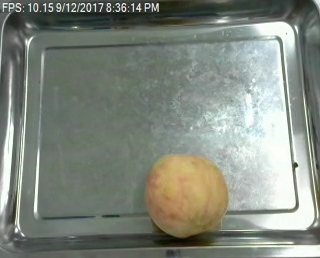Peach: (145, 153, 229, 238)
